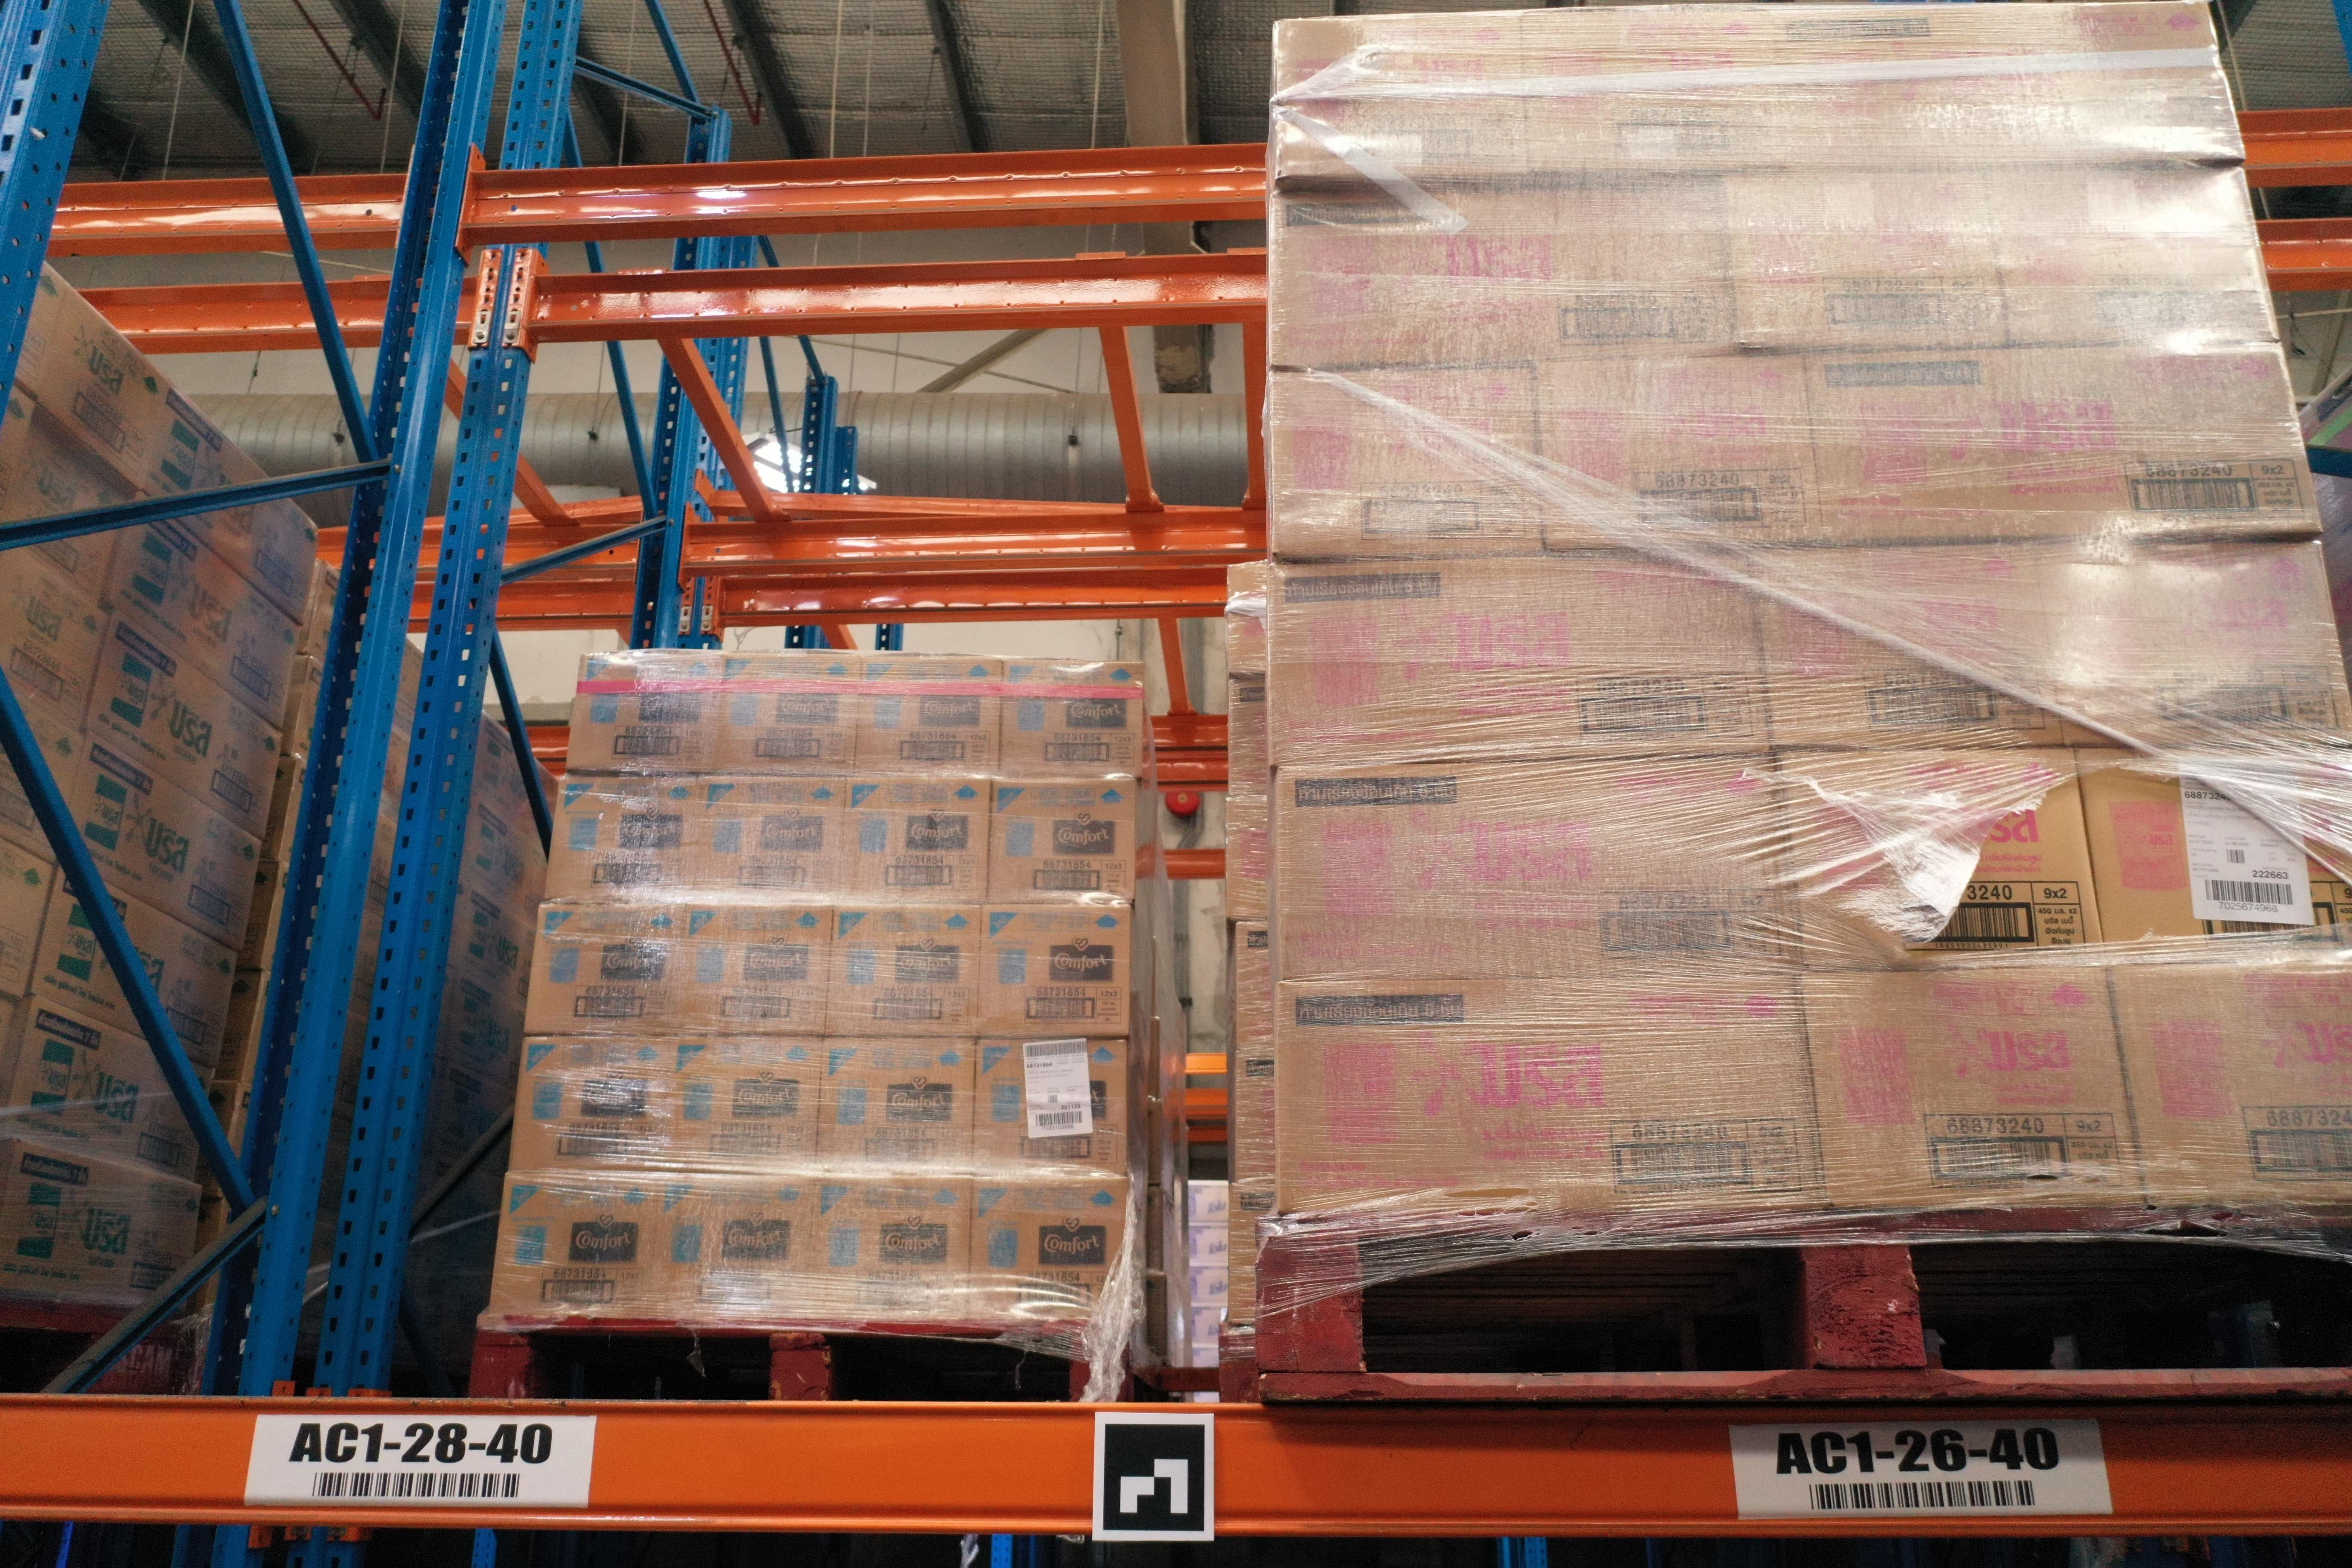-: (1274, 975, 1825, 1216), (1272, 749, 1801, 983), (1270, 553, 1773, 768), (1809, 346, 2320, 549), (1267, 178, 1736, 369), (1799, 964, 2145, 1207), (1776, 742, 2109, 971), (1752, 542, 2067, 749), (2044, 537, 2352, 747), (2077, 742, 2352, 964), (1529, 353, 1827, 549), (2110, 964, 2352, 1204), (1990, 164, 2284, 350), (1722, 170, 2009, 353), (1270, 367, 1545, 553), (1524, 0, 1781, 182), (1272, 12, 1531, 185)
box: (493, 1172, 667, 1323), (814, 1036, 980, 1185), (805, 1179, 976, 1319), (521, 899, 688, 1041), (509, 1034, 677, 1174), (969, 1179, 1130, 1325), (975, 1036, 1127, 1186), (667, 1034, 824, 1178), (541, 772, 707, 906), (660, 1174, 812, 1319), (835, 775, 994, 912), (560, 649, 726, 775), (822, 910, 982, 1041), (679, 903, 835, 1036), (850, 649, 1008, 780), (691, 772, 843, 906), (980, 905, 1132, 1038), (982, 779, 1136, 906), (996, 656, 1144, 782), (714, 654, 861, 777)
